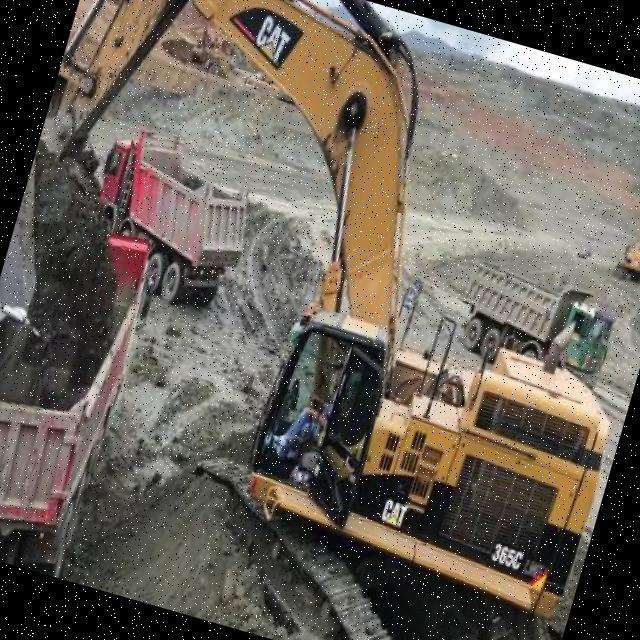Dump Truck: (0, 216, 156, 579), (72, 128, 264, 316), (450, 261, 620, 388)
Excavator: (0, 0, 640, 640), (611, 235, 640, 284)
